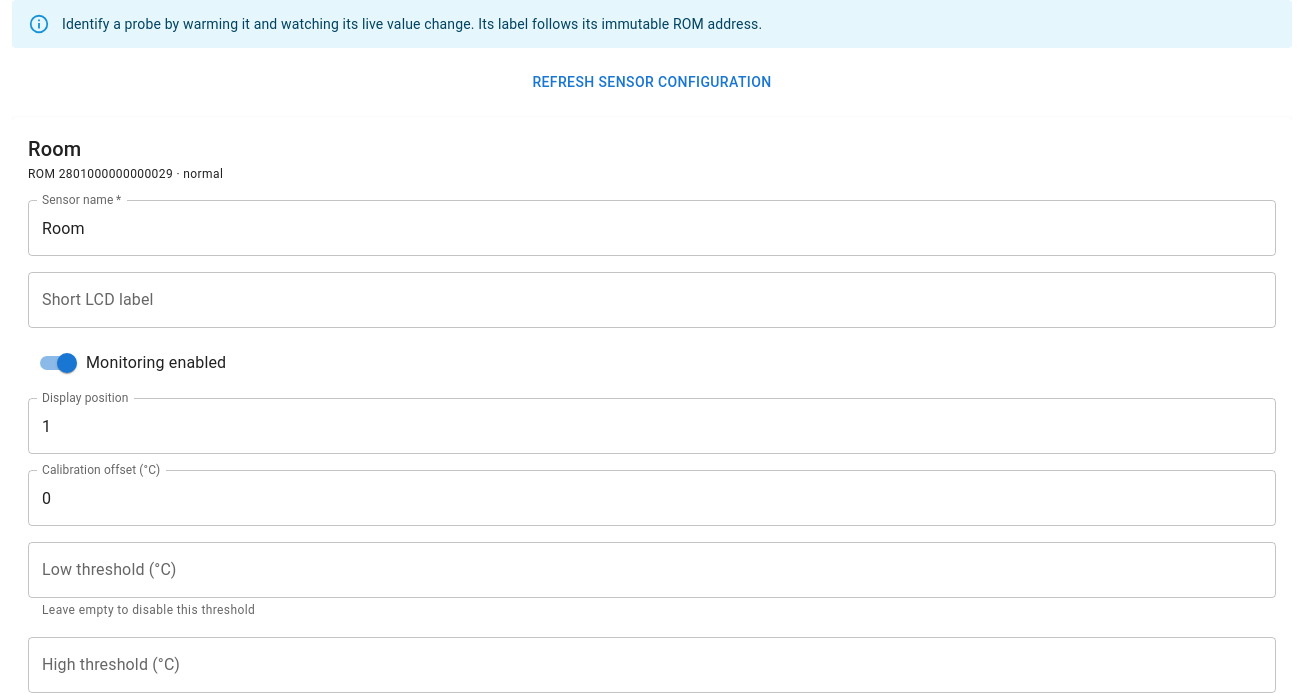
Scenario: submits ROM-keyed settings including negative calibration and disabled state
Replace the text in the field labelled "Sensor name *" with "Freezer" at (652, 228), box [28,200,1276,256]
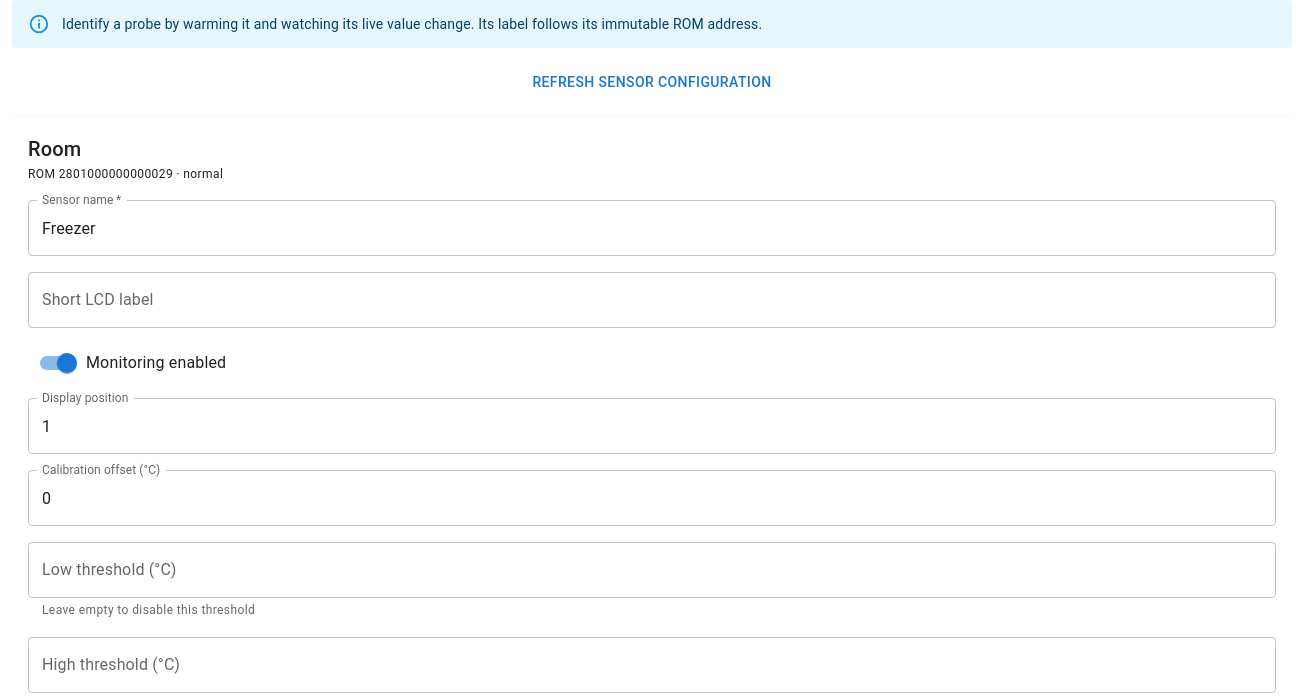
Replace the text in the number field labelled "Calibration offset (°C)" with "-1.25" at (652, 498), box [28,470,1276,526]
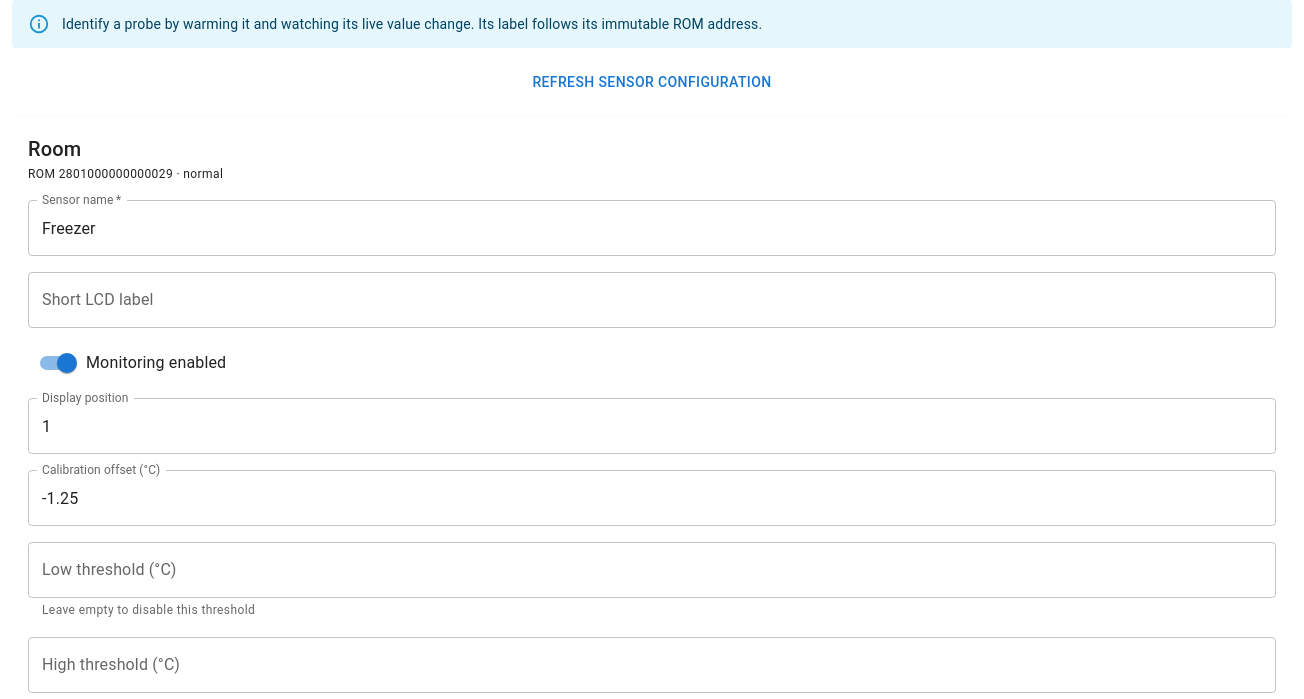
Click the switch labelled "Monitoring enabled" at (133, 363), box [40,353,226,373]
(page scrolled)
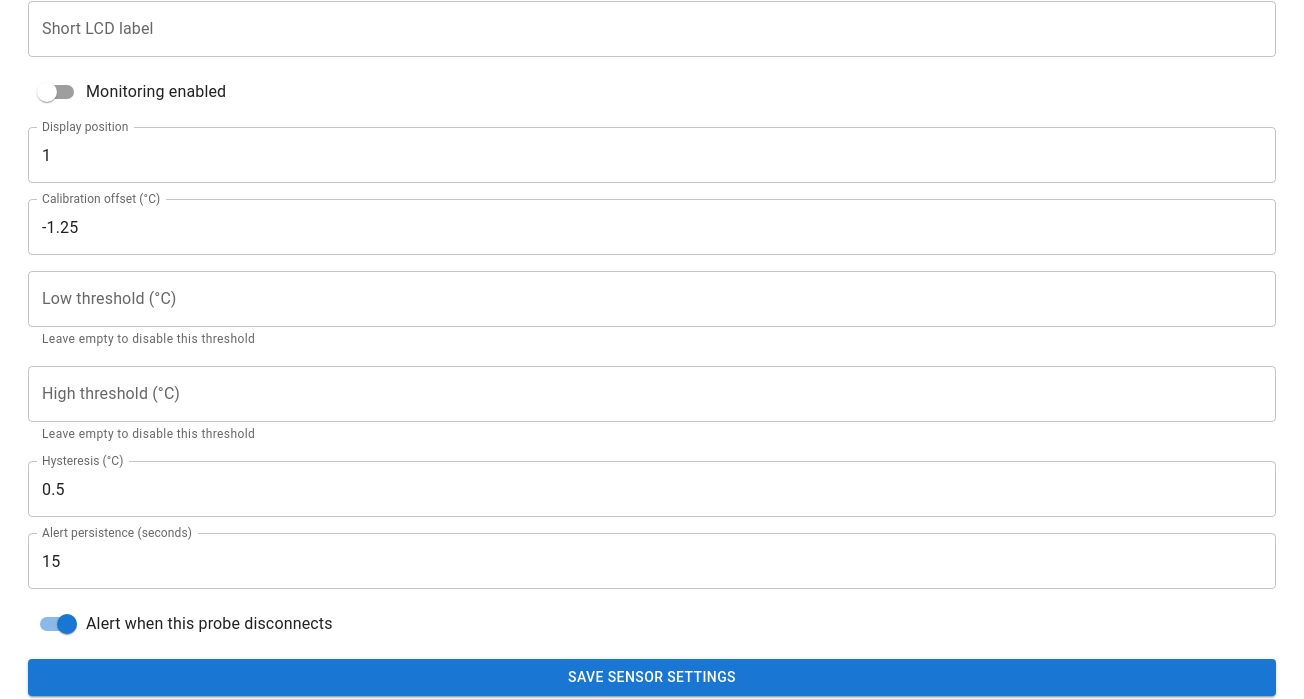
Click the button "Save sensor settings" at (652, 677), box [28,659,1276,696]
(page scrolled)
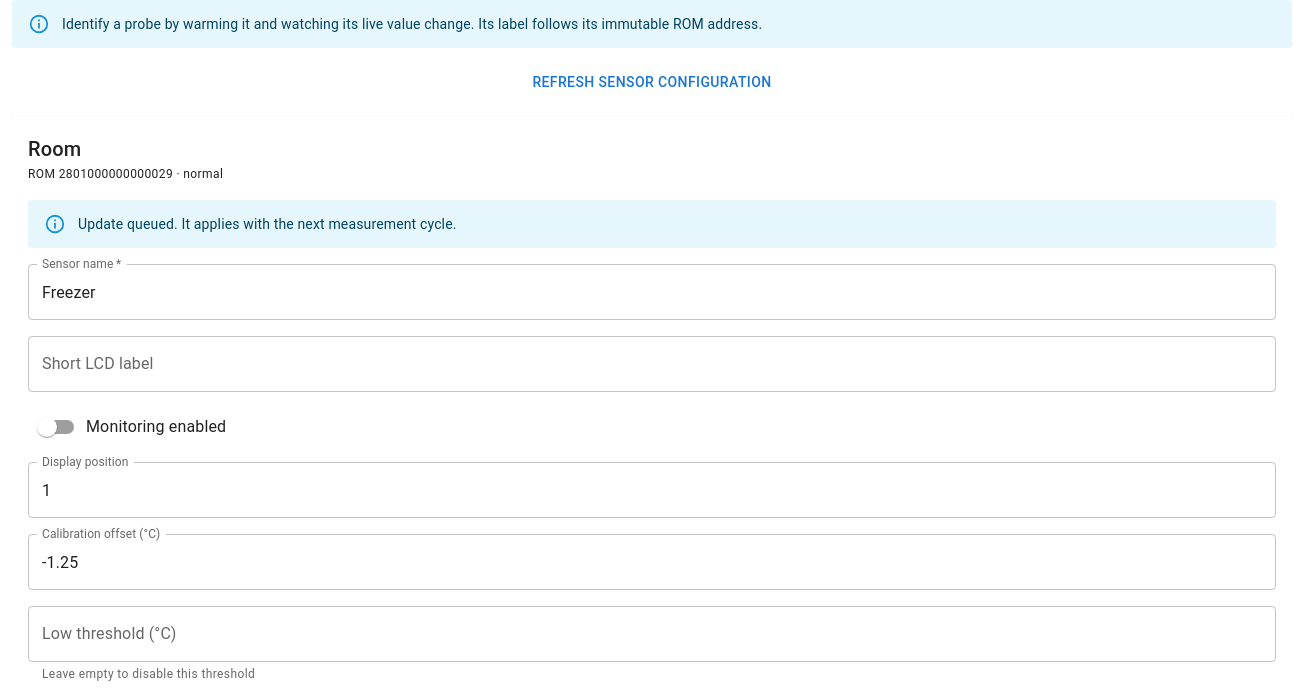
Now the text "Update queued. It applies with the next measurement cycle." is shown, box [78,216,457,232]
